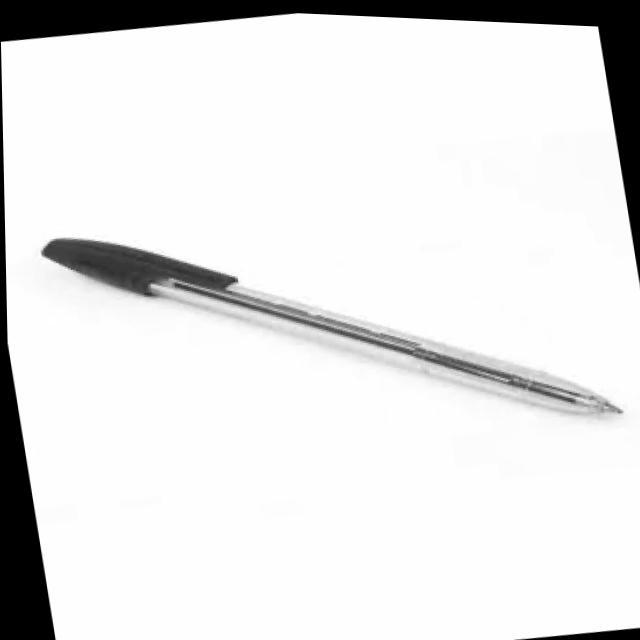pencil: (26, 208, 640, 423)
